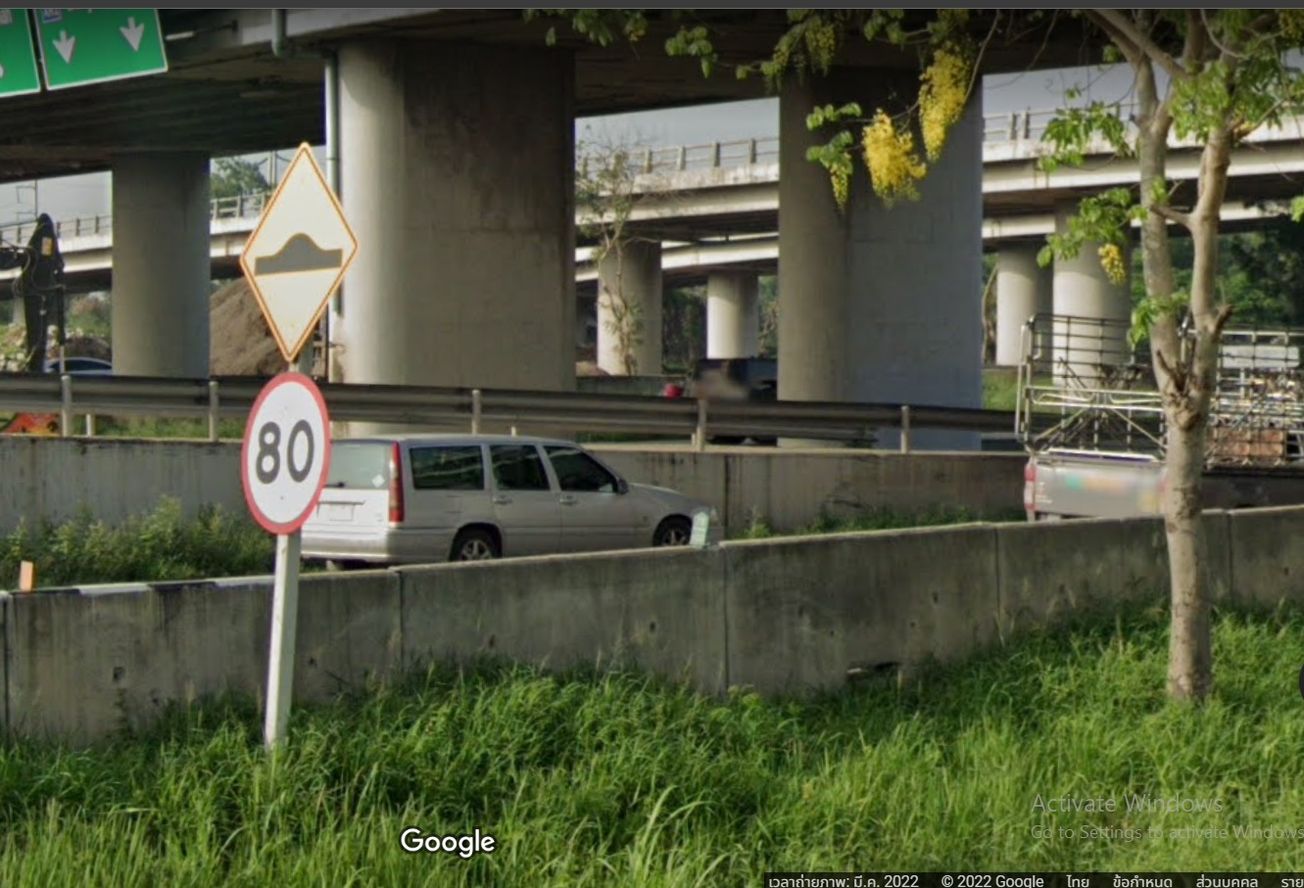80KPH: (234, 362, 337, 536)
